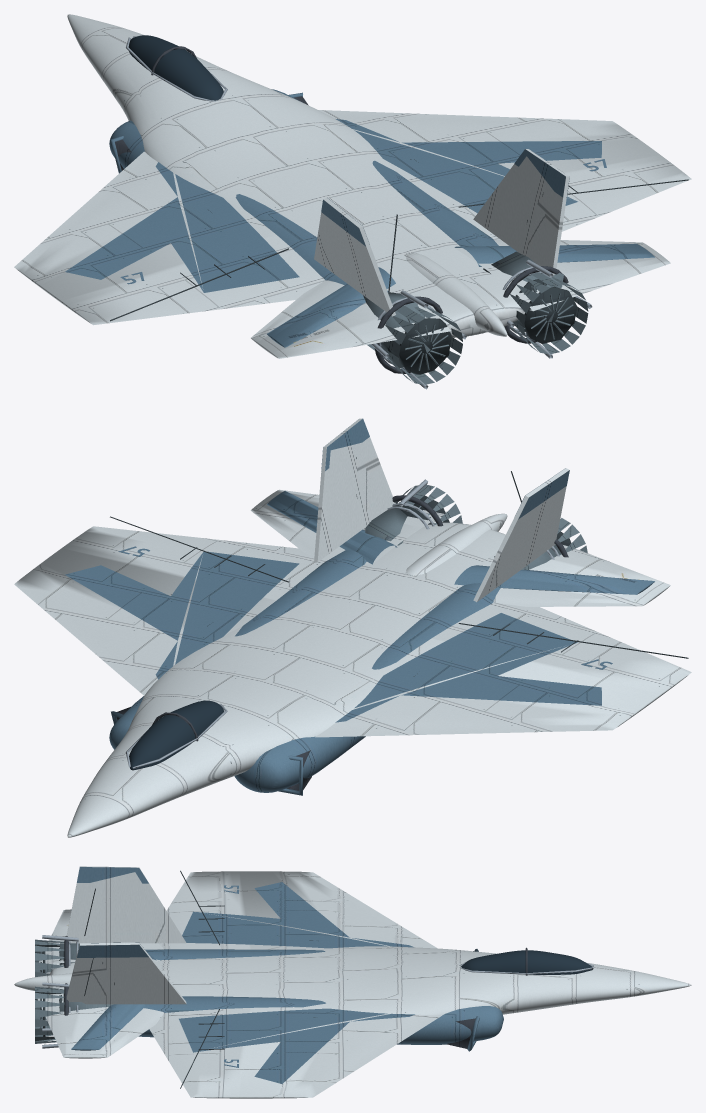
Rendered from snega.glb.
The picture shows the model from 3 angles, top to bottom: view 1: azimuth 30°, elevation 25°; view 2: azimuth 150°, elevation 25°; view 3: azimuth 270°, elevation 25°; orthographic projection. The views are drawn at different scales.
Parts seen in each view (by area): view 1: frost-surfaces, slate-surfaces, titanium-surfaces, graphite-surfaces, Cockpit glass-surfaces, carbon-surfaces, silver-surfaces; view 2: frost-surfaces, slate-surfaces, Cockpit glass-surfaces, titanium-surfaces, graphite-surfaces, silver-surfaces, carbon-surfaces; view 3: frost-surfaces, slate-surfaces, Cockpit glass-surfaces, titanium-surfaces, silver-surfaces, graphite-surfaces, carbon-surfaces.
Boxes of the visible parts, box(x1,y1,x2,y2) form: frost-surfaces: box(14, 14, 691, 358); slate-surfaces: box(65, 89, 654, 347); titanium-surfaces: box(363, 251, 588, 384); graphite-surfaces: box(110, 159, 688, 374); Cockpit glass-surfaces: box(128, 35, 223, 100); carbon-surfaces: box(115, 46, 568, 373); silver-surfaces: box(126, 36, 592, 389); frost-surfaces: box(14, 418, 691, 837); slate-surfaces: box(65, 419, 654, 795); Cockpit glass-surfaces: box(129, 700, 223, 770); titanium-surfaces: box(365, 485, 587, 569); graphite-surfaces: box(110, 471, 688, 676); silver-surfaces: box(125, 479, 559, 768); carbon-surfaces: box(116, 495, 568, 790); frost-surfaces: box(14, 866, 691, 1098); slate-surfaces: box(71, 867, 503, 1083); Cockpit glass-surfaces: box(461, 950, 592, 974); titanium-surfaces: box(35, 939, 113, 1043); silver-surfaces: box(42, 935, 593, 1048); graphite-surfaces: box(43, 870, 315, 1088); carbon-surfaces: box(64, 936, 527, 1048).
Bounding box in the file's own units: 8.8 × 2.18 × 11.19.
Materials: 8 (6 with a texture image).
